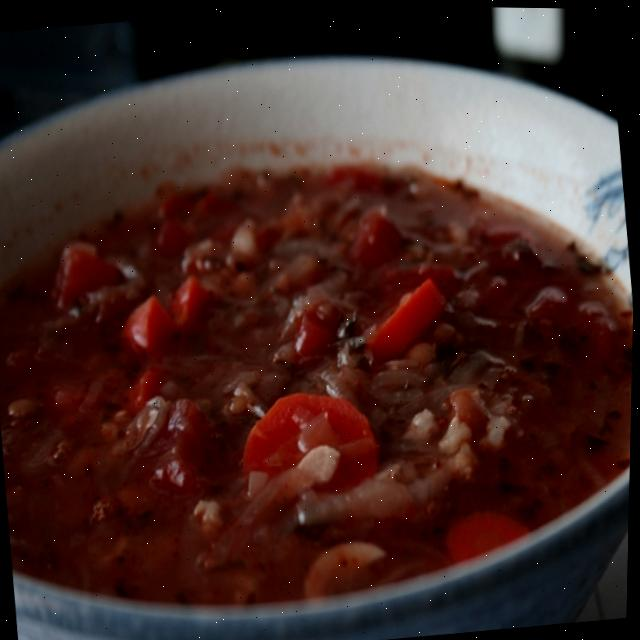汤锅炖物: (0, 107, 638, 625)
